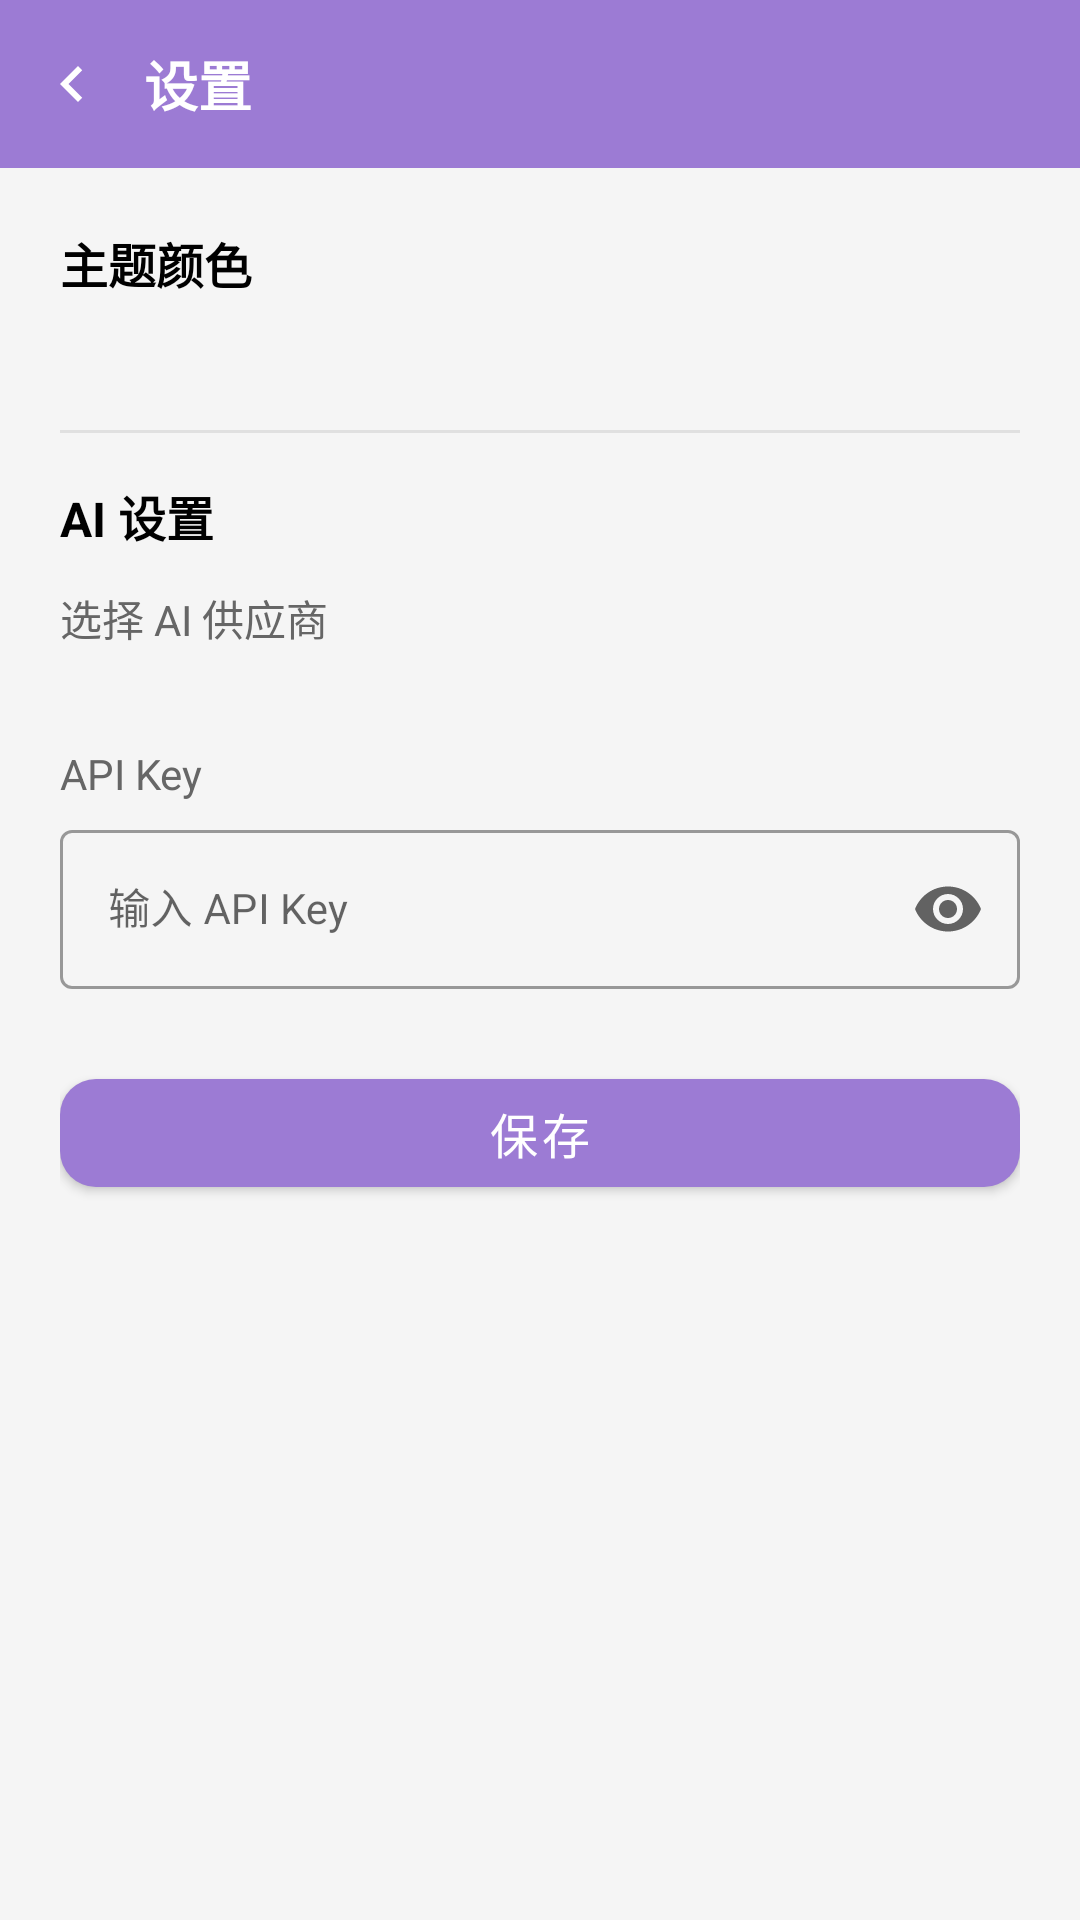

Named icons in this screenshot (1080x1920) and their centers, (x=x, y=y):
返回: (x=71, y=84)
